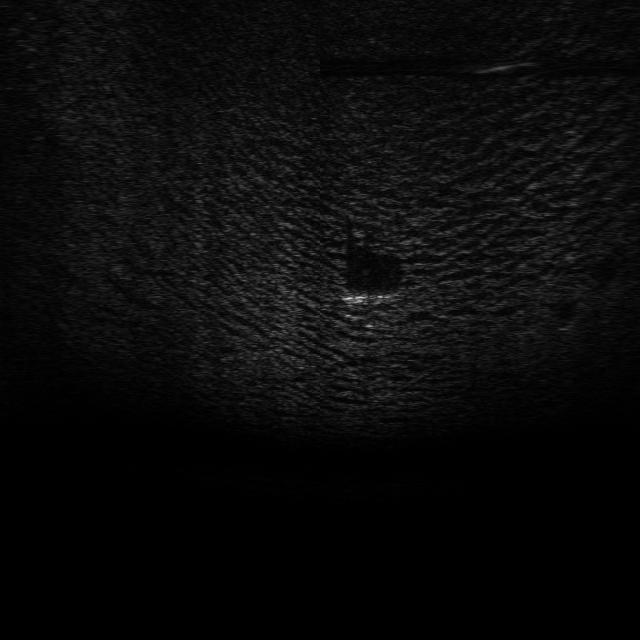plane: (338, 281, 402, 314)
